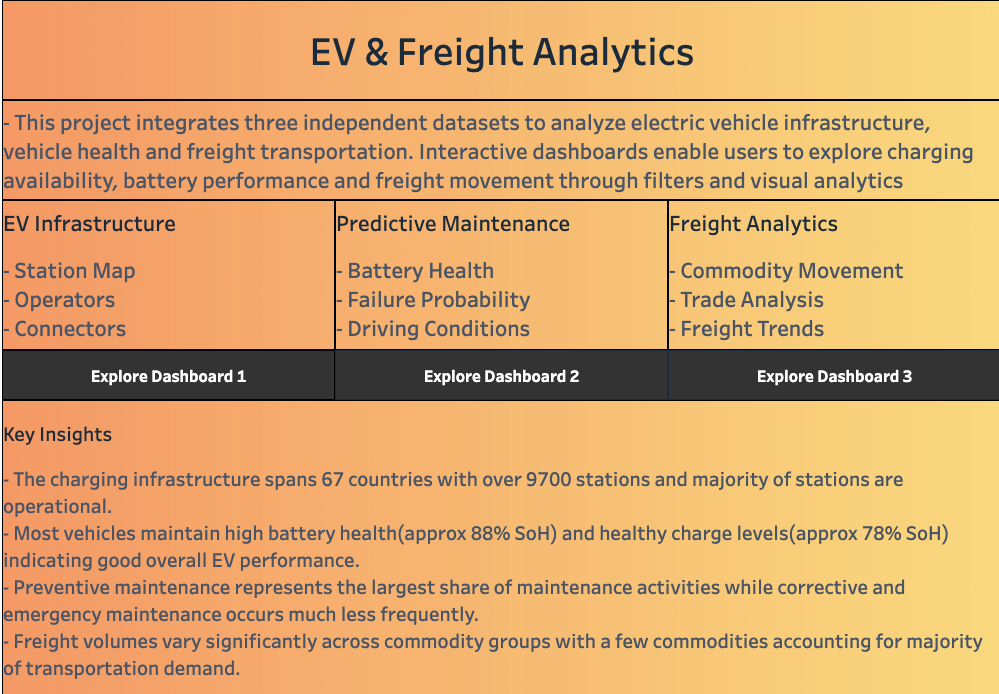

What the dashboard file says about the page in this screenshot:
{"tool":"tableau","page":{"name":"Home","canvas":[1000,800],"ordinal":0},"visuals":[{"type":"image","param":"/Users/masalapav/Downloads/Untitled design.png","box":[0,0,1000,800]},{"type":"text","box":[0,0,1000,100]},{"type":"text","box":[0,100,1000,100]},{"type":"text","box":[0,200,333,150]},{"type":"text","box":[333,200,333,150]},{"type":"text","box":[666,200,333,150]},{"type":"dashboard-object","box":[0,350,333,50]},{"type":"dashboard-object","box":[333,350,333,50]},{"type":"dashboard-object","box":[666,350,333,50]},{"type":"text","box":[0,400,1000,300]}]}

Visuals, with their boxes on the page's 1000x800 design canvas (x1, y1, x2, y2). These are canvas units, not pixel positions in the 999x694 screenshot, which may show the page scaled, cropped or inside an application window:
image: <box>0,0,1000,800</box>
text: <box>0,0,1000,100</box>
text: <box>0,100,1000,200</box>
text: <box>0,200,333,350</box>
text: <box>333,200,666,350</box>
text: <box>666,200,999,350</box>
dashboard-object: <box>0,350,333,400</box>
dashboard-object: <box>333,350,666,400</box>
dashboard-object: <box>666,350,999,400</box>
text: <box>0,400,1000,700</box>
